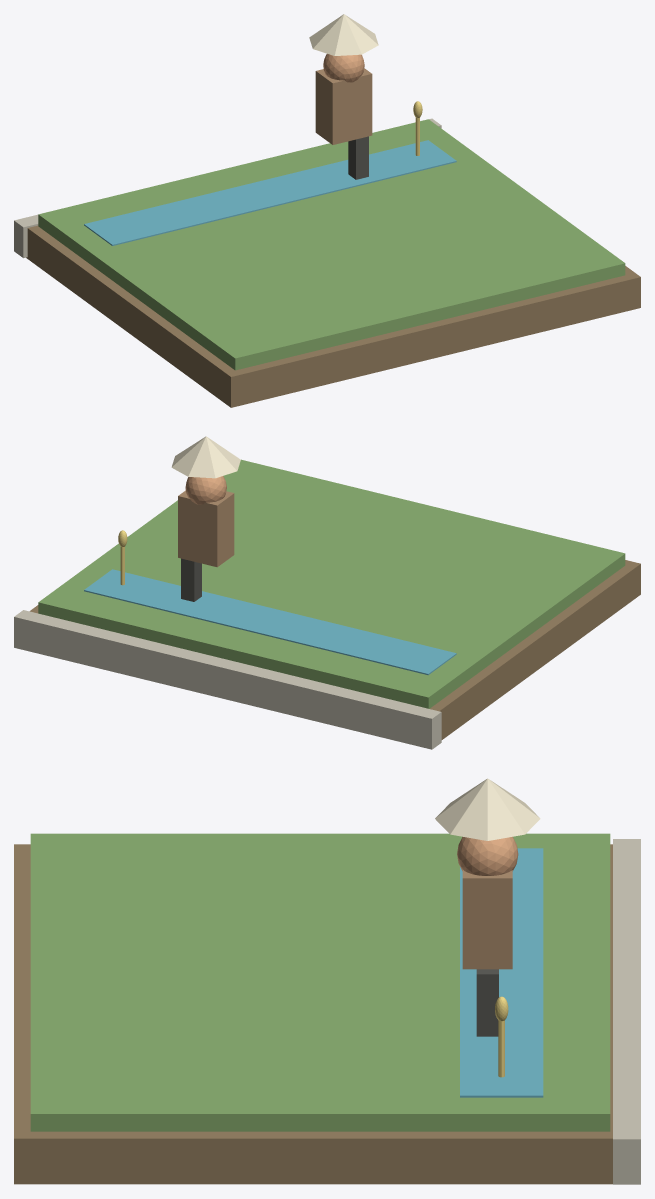
Rendered from 01_O_RuongLua.glb.
The picture shows the model from 3 angles, top to bottom: view 1: azimuth 30°, elevation 25°; view 2: azimuth 150°, elevation 25°; view 3: azimuth 270°, elevation 25°; orthographic projection. The views are drawn at different scales.
Parts seen in each view (by area): view 1: grass, soil, water, body, hat, head, leg, border; view 2: grass, border, water, soil, body, hat, head, leg; view 3: grass, soil, water, border, body, hat, head, leg.
Boxes of the visible parts, x1=… form: grass: x1=38, y1=119, x2=625, y2=370; soil: x1=26, y1=225, x2=640, y2=407; water: x1=84, y1=140, x2=456, y2=245; body: x1=315, y1=68, x2=372, y2=144; hat: x1=309, y1=14, x2=378, y2=55; head: x1=323, y1=54, x2=364, y2=82; leg: x1=348, y1=136, x2=368, y2=179; border: x1=14, y1=118, x2=441, y2=258; grass: x1=38, y1=459, x2=625, y2=708; border: x1=14, y1=610, x2=441, y2=749; water: x1=84, y1=569, x2=456, y2=675; soil: x1=30, y1=560, x2=640, y2=739; body: x1=178, y1=490, x2=234, y2=567; hat: x1=171, y1=436, x2=240, y2=478; head: x1=185, y1=476, x2=226, y2=504; leg: x1=181, y1=558, x2=201, y2=601; grass: x1=30, y1=833, x2=610, y2=1131; soil: x1=14, y1=844, x2=612, y2=1184; water: x1=460, y1=848, x2=543, y2=1097; border: x1=613, y1=839, x2=640, y2=1184; body: x1=462, y1=870, x2=512, y2=969; hat: x1=435, y1=778, x2=540, y2=840; head: x1=457, y1=836, x2=518, y2=875; leg: x1=476, y1=969, x2=498, y2=1036.
Size of the model in its own units: 2.55 by 1.22 by 2.25.
